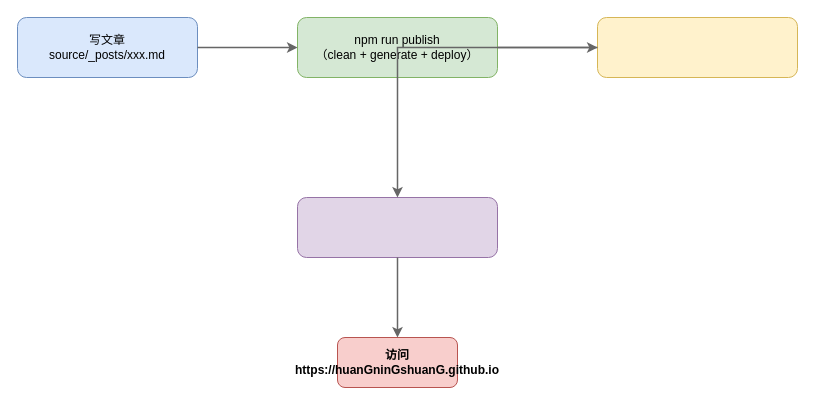
The diagram is 815 pixels wide and 405 high, and some of its shapes have lost their labels. Each missing label, with the centre of its shape:
"GitHub Pages 构建并上线" belongs at [397,227].
"推送到 hexo 分支 （GitHub Actions 自动构建）" belongs at [697,47].
